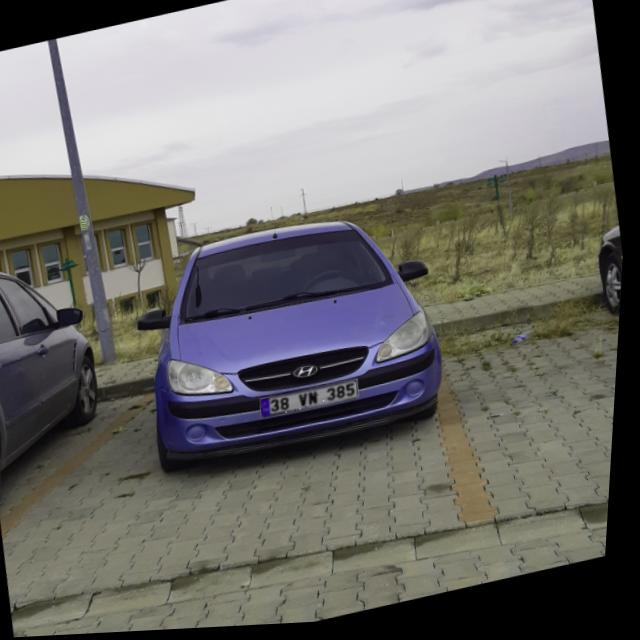license_plate: (265, 381, 363, 420)
